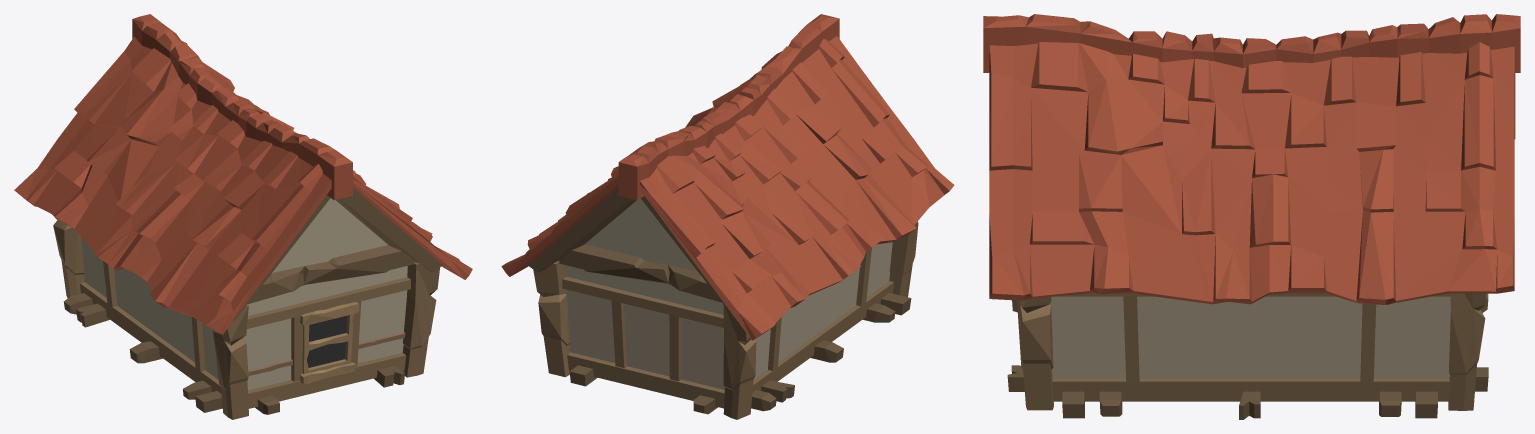
File: SM_Bld_House_RoomTop_05.glb
The picture shows the model from 3 angles, left to right: view 1: azimuth 30°, elevation 25°; view 2: azimuth 150°, elevation 25°; view 3: azimuth 270°, elevation 25°; orthographic projection. The views are drawn at different scales.
Visible parts, largest first — view 1: SM_Bld_House_RoomTop_05; view 2: SM_Bld_House_RoomTop_05; view 3: SM_Bld_House_RoomTop_05.
Part boxes in pixels (left/top/right/bottom): SM_Bld_House_RoomTop_05: left=14, top=14, right=472, bottom=419; SM_Bld_House_RoomTop_05: left=501, top=14, right=954, bottom=419; SM_Bld_House_RoomTop_05: left=983, top=14, right=1520, bottom=419.
Size of the model in its own units: 5.43 by 4.65 by 6.86.
Materials: 1 (1 with a texture image).
